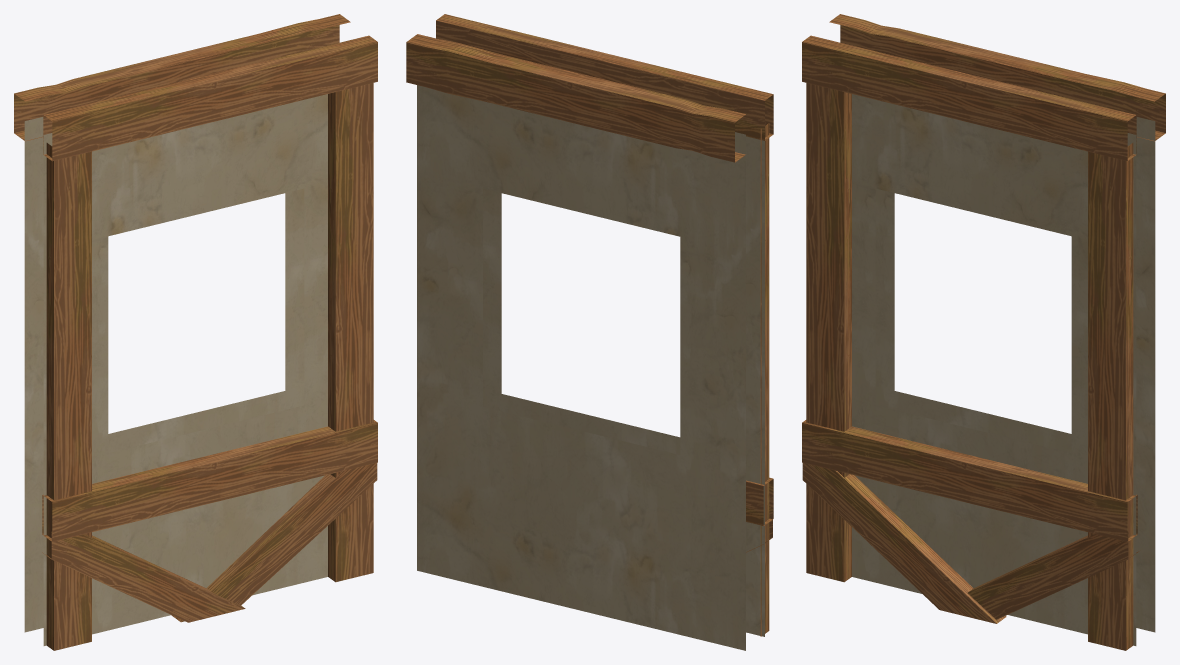
File: Wall_Plaster_Window_Wide_Flat2.gltf
3 views of the same model, side by side, from view 1: azimuth 30°, elevation 25°; view 2: azimuth 150°, elevation 25°; view 3: azimuth 330°, elevation 25° (orthographic).
Parts seen in each view (by area): view 1: Wall_Plaster_Window_Wide_Flat2; view 2: Wall_Plaster_Window_Wide_Flat2; view 3: Wall_Plaster_Window_Wide_Flat2.
Boxes of the visible parts, x1,y1,x2,y2 form: Wall_Plaster_Window_Wide_Flat2: [14, 14, 377, 650]; Wall_Plaster_Window_Wide_Flat2: [406, 14, 773, 650]; Wall_Plaster_Window_Wide_Flat2: [802, 14, 1165, 650].
Size of the model in its own units: 2 by 3.15 by 0.4065.
2 materials, 2 textured.
